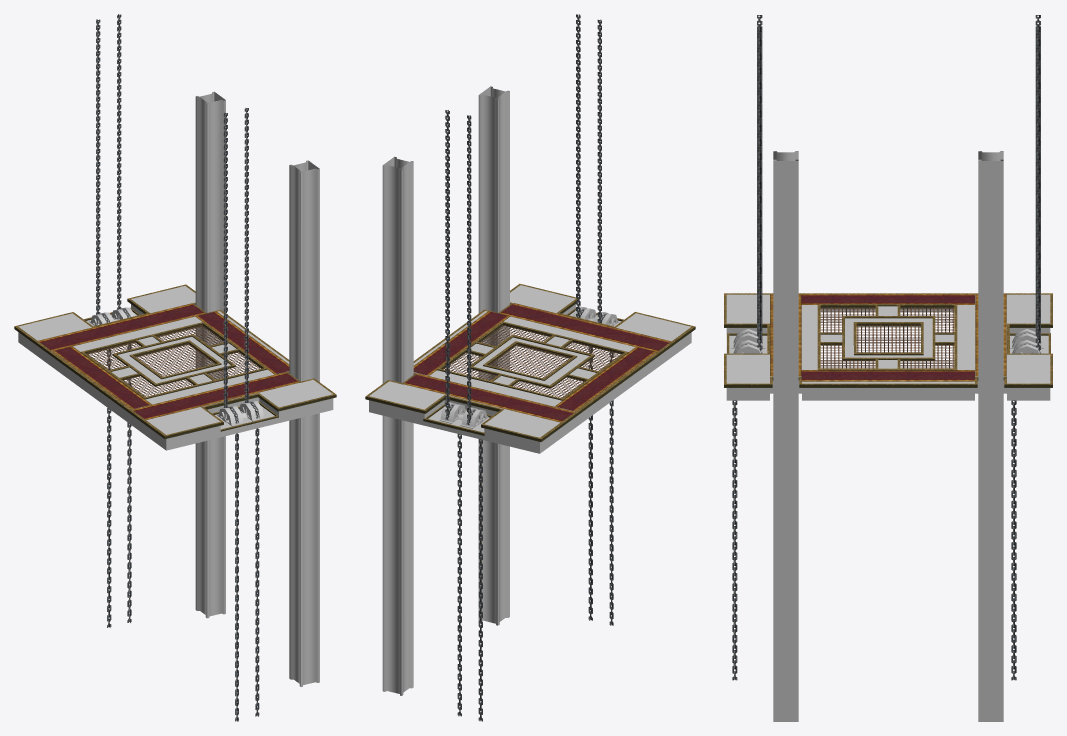
File: environment_Building_zhandouchangjing_003_b.FBX
The picture shows the model from 3 angles, left to right: view 1: azimuth 30°, elevation 25°; view 2: azimuth 150°, elevation 25°; view 3: azimuth 270°, elevation 25°; orthographic projection. The views are drawn at different scales.
Visible parts, largest first — view 1: environment_Building_zhandouchangjing_003_b06, environment_Building_zhandouchangjing_003_b02, environment_Building_zhandouchangjing_003_b04, environment_Building_zhandouchangjing_003_b03, environment_Building_zhandouchangjing_003_b01, environment_Building_zhandouchangjing_003_b05, environment_Building_zhandouchangjing_003_b08, environment_Building_zhandouchangjing_003_b07; view 2: environment_Building_zhandouchangjing_003_b06, environment_Building_zhandouchangjing_003_b02, environment_Building_zhandouchangjing_003_b04, environment_Building_zhandouchangjing_003_b03, environment_Building_zhandouchangjing_003_b01, environment_Building_zhandouchangjing_003_b05, environment_Building_zhandouchangjing_003_b08, environment_Building_zhandouchangjing_003_b07; view 3: environment_Building_zhandouchangjing_003_b06, environment_Building_zhandouchangjing_003_b04, environment_Building_zhandouchangjing_003_b02, environment_Building_zhandouchangjing_003_b01, environment_Building_zhandouchangjing_003_b03, environment_Building_zhandouchangjing_003_b08, environment_Building_zhandouchangjing_003_b05, environment_Building_zhandouchangjing_003_b07.
Part boxes in pixels (box(x1,y1,x2,y2)): environment_Building_zhandouchangjing_003_b06: box(195, 91, 319, 686); environment_Building_zhandouchangjing_003_b02: box(96, 14, 259, 721); environment_Building_zhandouchangjing_003_b04: box(18, 286, 332, 434); environment_Building_zhandouchangjing_003_b03: box(38, 303, 299, 419); environment_Building_zhandouchangjing_003_b01: box(14, 284, 336, 439); environment_Building_zhandouchangjing_003_b05: box(18, 304, 333, 450); environment_Building_zhandouchangjing_003_b08: box(86, 325, 262, 396); environment_Building_zhandouchangjing_003_b07: box(89, 307, 264, 426); environment_Building_zhandouchangjing_003_b06: box(382, 86, 509, 695); environment_Building_zhandouchangjing_003_b02: box(445, 14, 613, 721); environment_Building_zhandouchangjing_003_b04: box(369, 285, 691, 437); environment_Building_zhandouchangjing_003_b03: box(403, 303, 670, 422); environment_Building_zhandouchangjing_003_b01: box(365, 283, 695, 441); environment_Building_zhandouchangjing_003_b05: box(369, 304, 691, 453); environment_Building_zhandouchangjing_003_b08: box(443, 324, 622, 398); environment_Building_zhandouchangjing_003_b07: box(439, 306, 619, 428); environment_Building_zhandouchangjing_003_b06: box(773, 151, 1003, 721); environment_Building_zhandouchangjing_003_b04: box(726, 294, 1050, 383); environment_Building_zhandouchangjing_003_b02: box(732, 15, 1040, 680); environment_Building_zhandouchangjing_003_b01: box(724, 293, 1052, 387); environment_Building_zhandouchangjing_003_b03: box(770, 294, 1006, 381); environment_Building_zhandouchangjing_003_b08: box(820, 307, 954, 368); environment_Building_zhandouchangjing_003_b05: box(726, 308, 1050, 400); environment_Building_zhandouchangjing_003_b07: box(731, 329, 1043, 353).
Bounding box in the file's own units: 1511 × 2219 × 4872.
